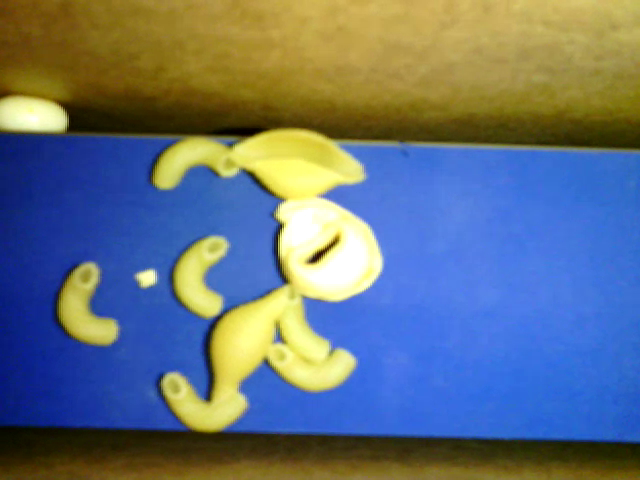elbow: (160, 369, 249, 434), (55, 261, 119, 346), (173, 234, 230, 320), (151, 137, 240, 190), (265, 342, 356, 391), (278, 290, 330, 364)
shell: (205, 284, 287, 406), (232, 126, 366, 200)
tortellini: (273, 197, 383, 303)
